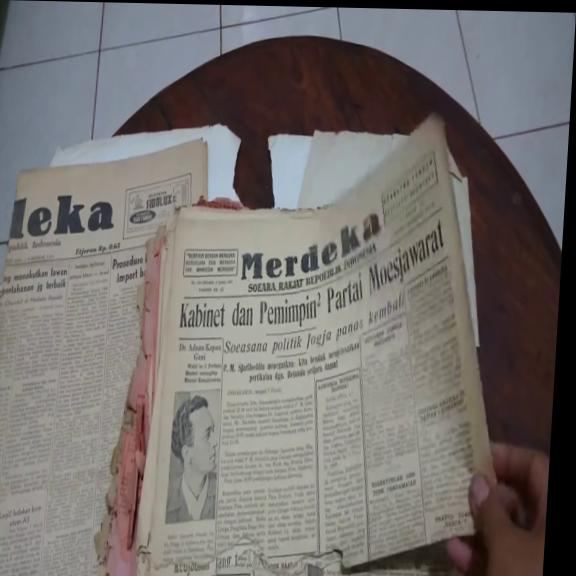Kertas: (135, 111, 509, 576), (0, 128, 212, 576)
